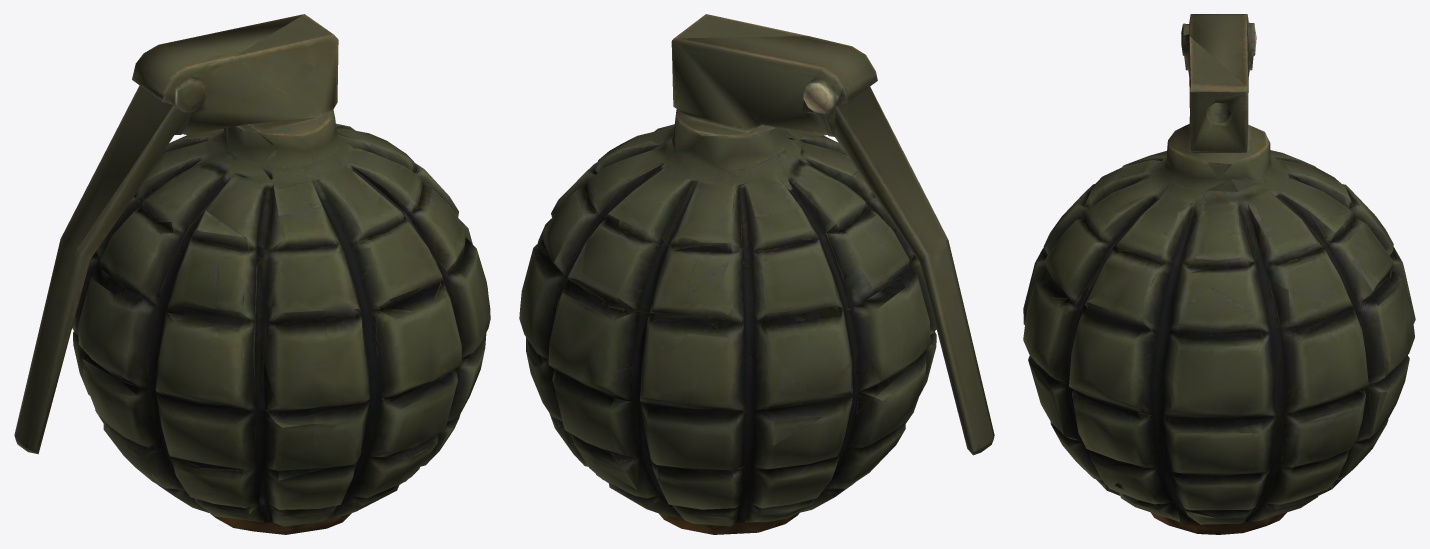
Rendered from eq_frag.glb.
3 views of the same model, side by side, from view 1: azimuth 30°, elevation 25°; view 2: azimuth 150°, elevation 25°; view 3: azimuth 270°, elevation 25° (orthographic). The views are drawn at different scales.
Visible parts, largest first — view 1: eq_frag; view 2: eq_frag; view 3: eq_frag.
Boxes of the visible parts, x1,y1,x2,y2 form: eq_frag: (14,14,490,534); eq_frag: (519,14,994,534); eq_frag: (1023,14,1415,534).
Bounding box in the file's own units: 0.1068 × 0.1099 × 0.0886.
1 material, 1 textured.
